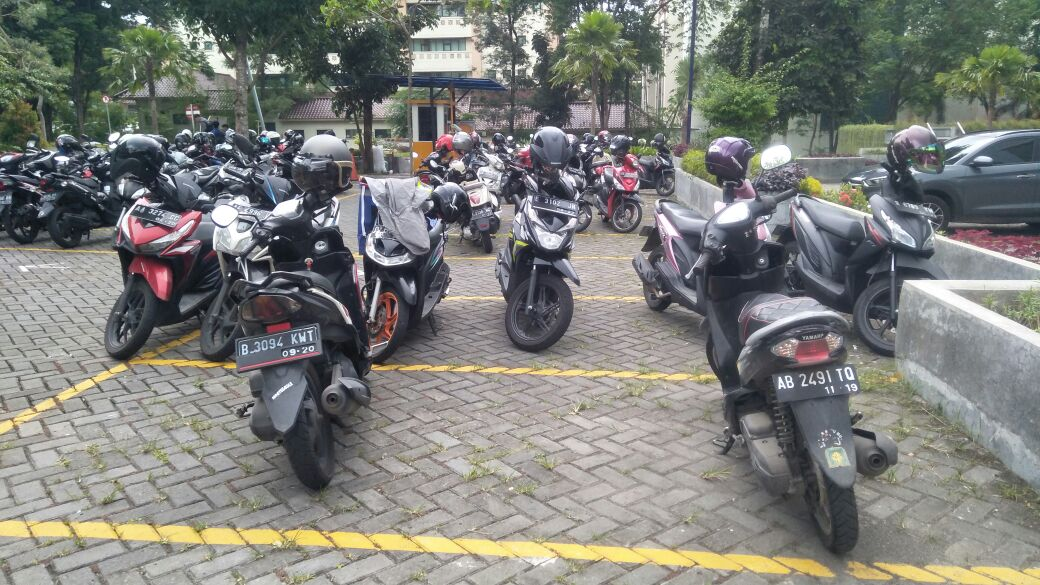plate: (234, 323, 320, 362), (770, 366, 861, 396), (130, 202, 179, 231), (532, 191, 577, 218)
